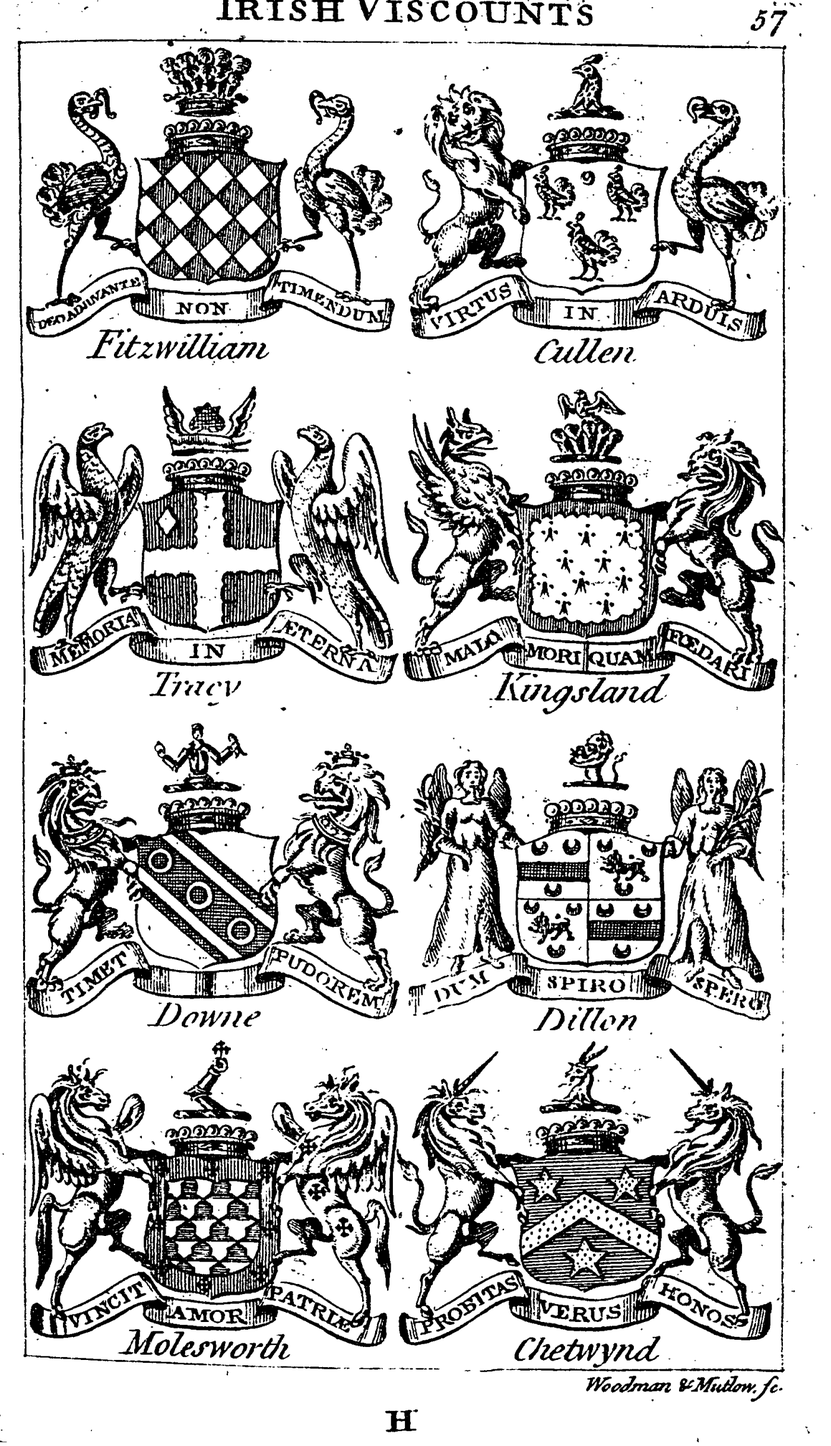coat_of_arms: (23, 1030, 397, 1364), (26, 40, 404, 369), (39, 372, 395, 712), (399, 54, 766, 382), (33, 708, 408, 1028), (408, 386, 770, 716), (414, 714, 772, 1043), (410, 1035, 766, 1357)
